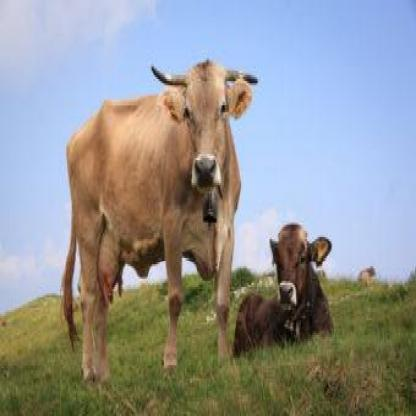cow: (63, 56, 258, 385), (231, 222, 334, 358), (357, 264, 377, 283)
